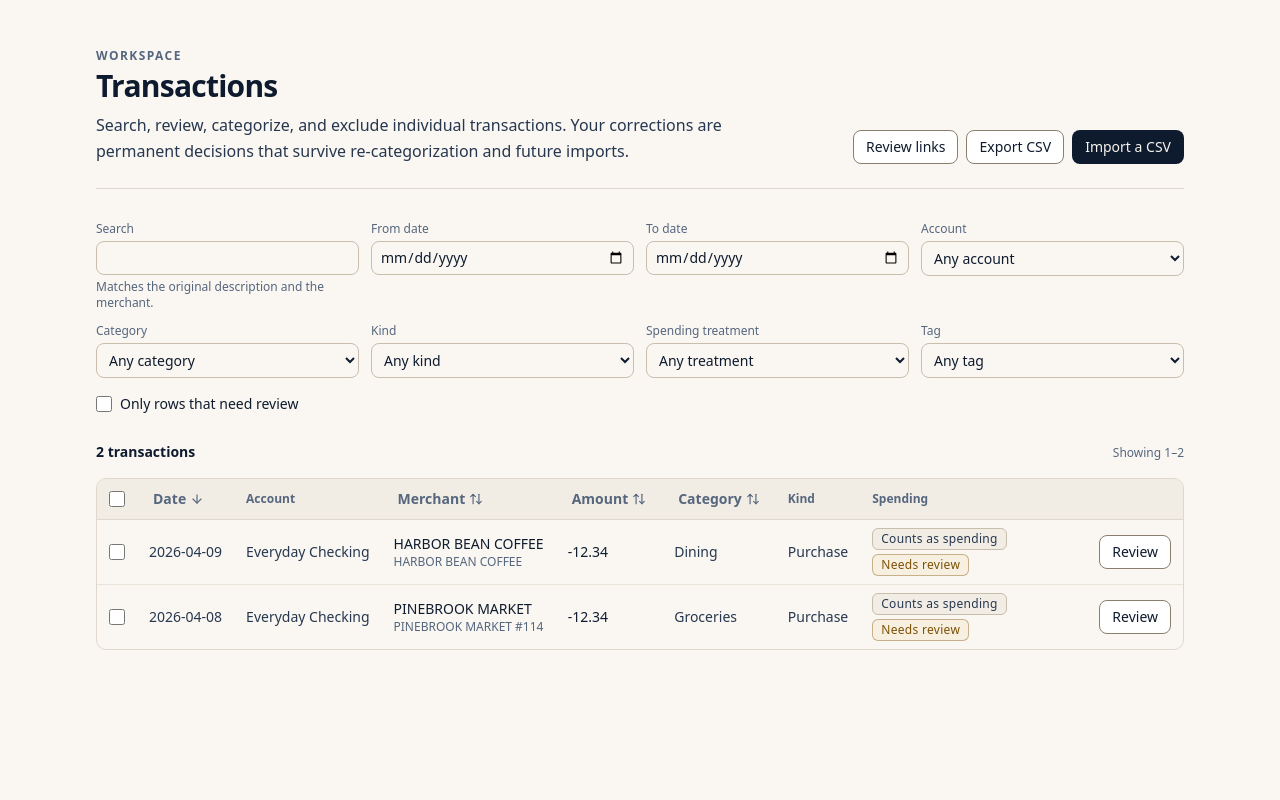
Test: selection reconciliation › drops selected rows that a filter change removed from view
The image size is (1280, 800).
Expected: the heading "2 transactions" is shown, [96, 442, 195, 462]
Click the checkbox named "select transaction from 2026-04-08". click: click(117, 617)
box: [109, 609, 125, 625]
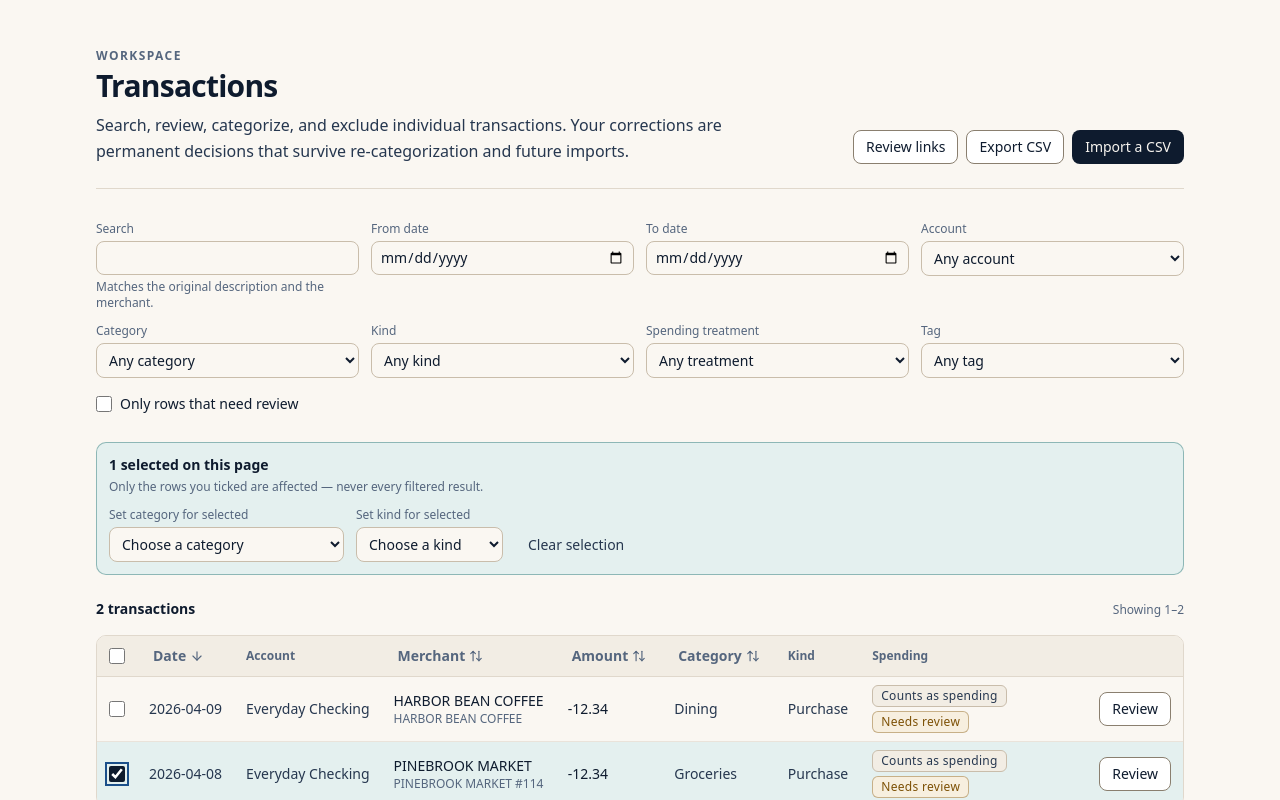
Result: the text "1 selected on this page" is shown at [109, 455, 269, 474]
Select "Dining" in the dropdown labelled "Category". click: (228, 360)
box: [96, 343, 359, 378]
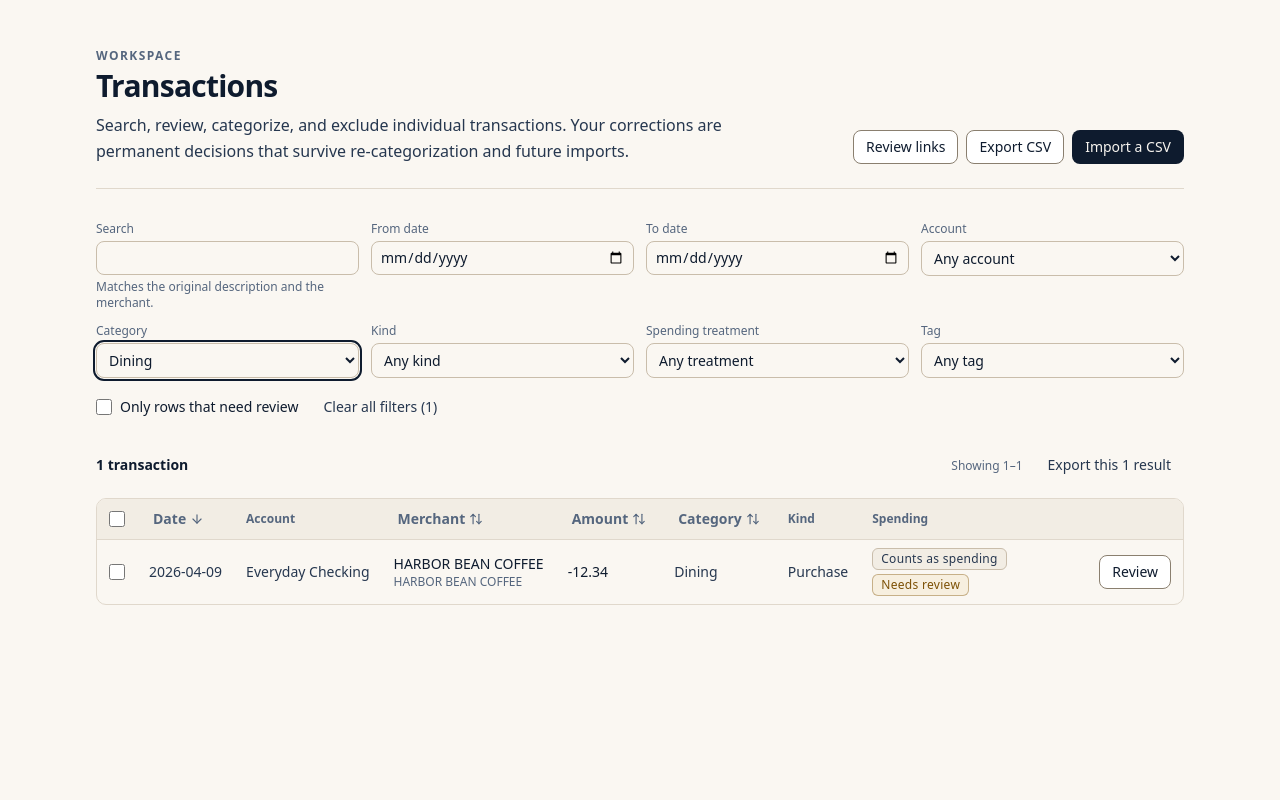
Result: the heading "1 transaction" is shown at [96, 455, 188, 475]
Result: the text "selected on this page" is gone
